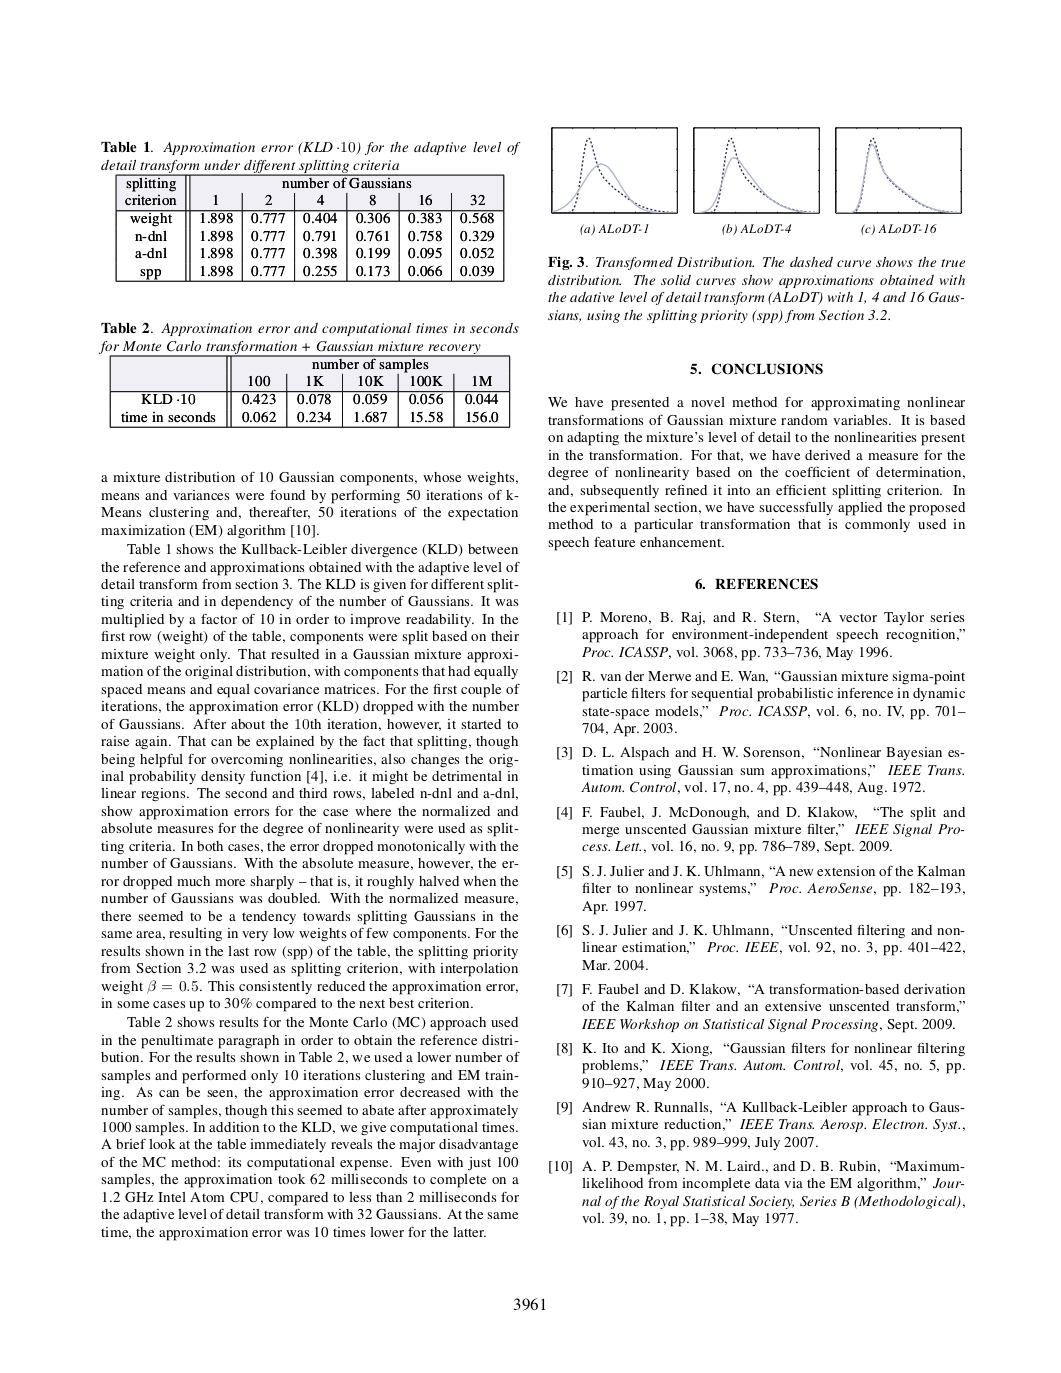Table: (115, 172, 504, 281), (109, 356, 510, 427)
figure: (551, 127, 676, 213), (693, 127, 819, 213), (835, 127, 961, 213)
